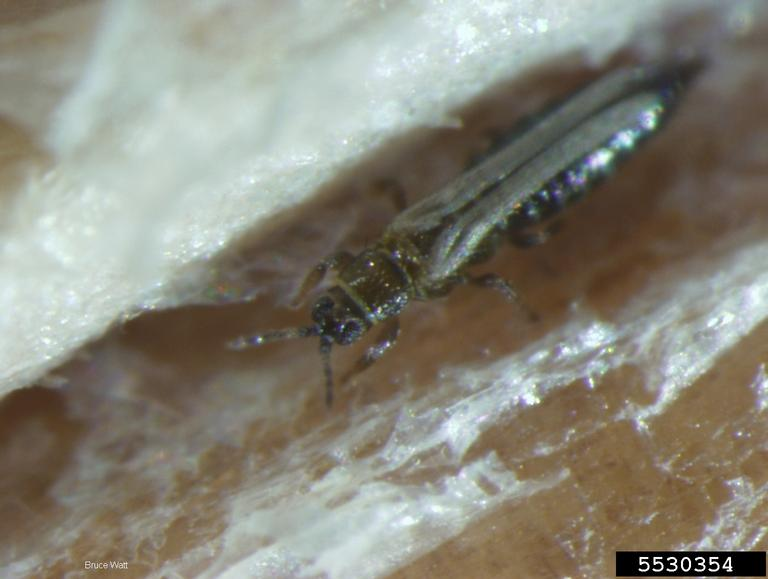Thrips: (303, 46, 715, 386)
